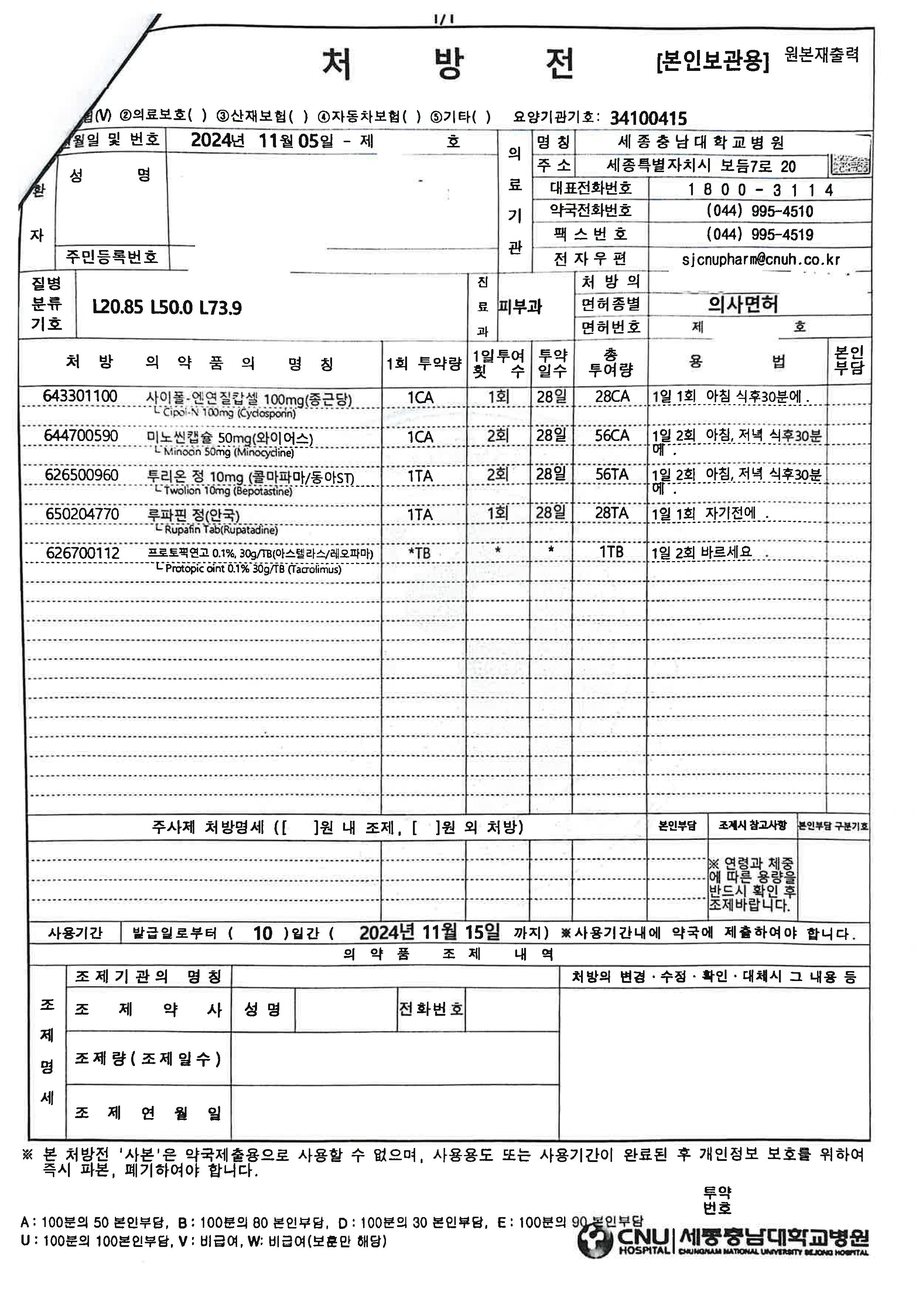row: (24, 943, 557, 1142), (23, 815, 870, 925), (18, 24, 873, 130), (15, 129, 498, 277), (557, 951, 870, 1137), (499, 130, 872, 274), (16, 339, 870, 384), (16, 426, 871, 468), (15, 385, 870, 426), (17, 503, 872, 543), (18, 544, 870, 584), (19, 467, 870, 506), (15, 271, 467, 340), (28, 923, 870, 948), (575, 273, 872, 340), (468, 272, 574, 341)
